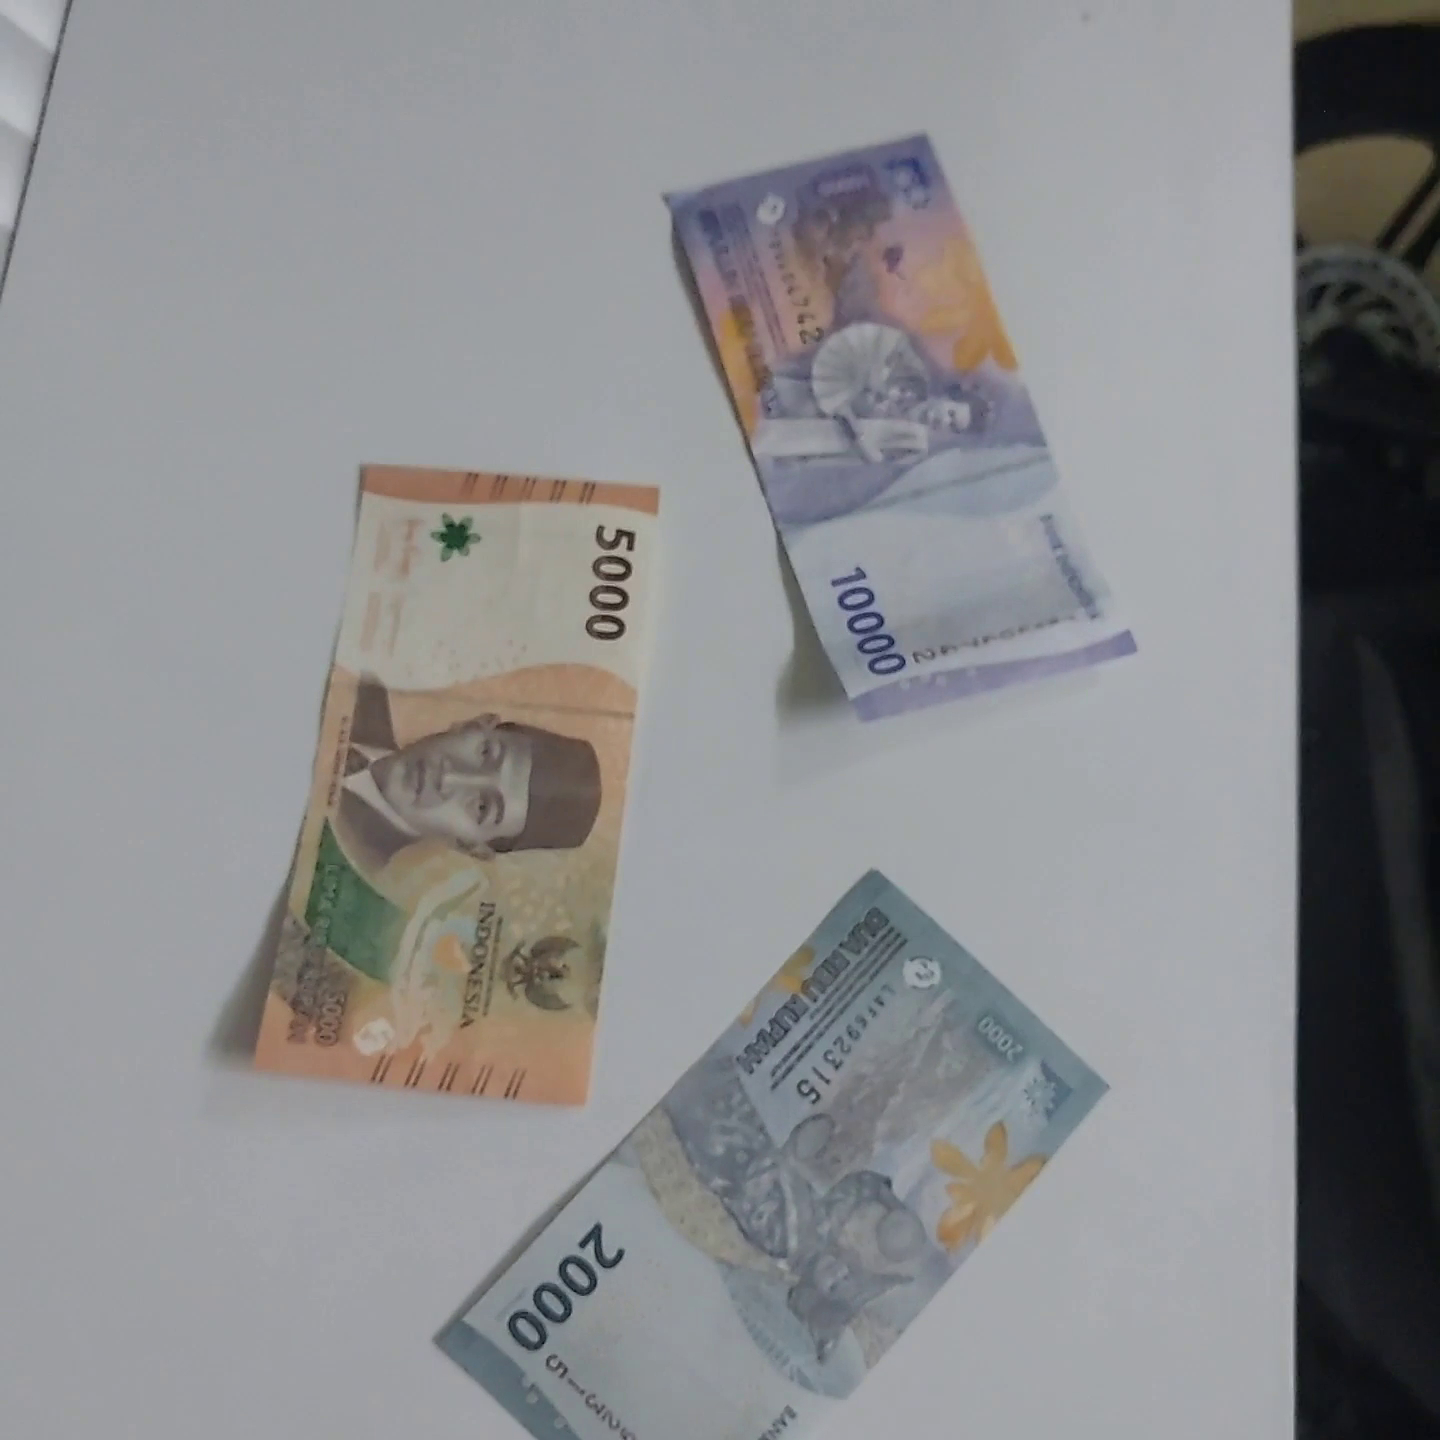10k: (647, 189, 978, 753)
2k: (451, 874, 1120, 1440)
5k: (357, 421, 680, 1105)
